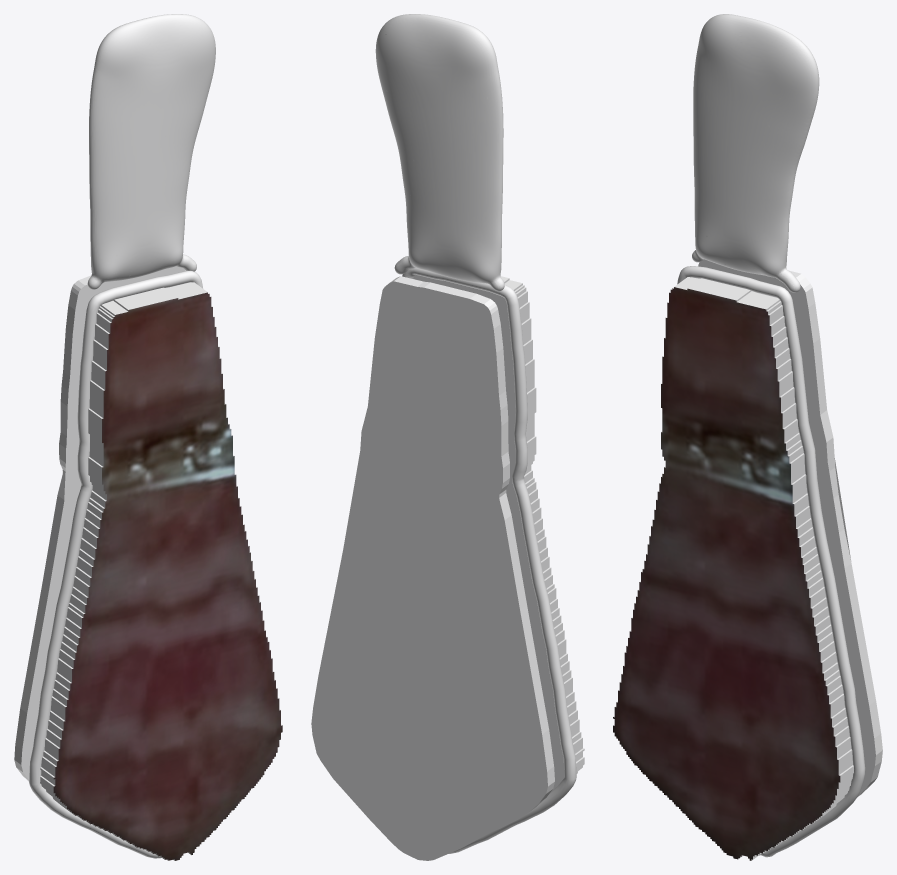
The picture shows the model from 3 angles, left to right: view 1: azimuth 30°, elevation 25°; view 2: azimuth 150°, elevation 25°; view 3: azimuth 330°, elevation 25°; orthographic projection.
Visible parts, largest first — view 1: joya; view 2: joya; view 3: joya.
Part boxes in pixels (bbox=[...]): joya: bbox=[14, 14, 282, 860]; joya: bbox=[311, 14, 584, 860]; joya: bbox=[613, 14, 882, 860].
Size of the model in its own units: 0.0121 by 0.0395 by 0.00325.
Materials: 3 (1 with a texture image).
